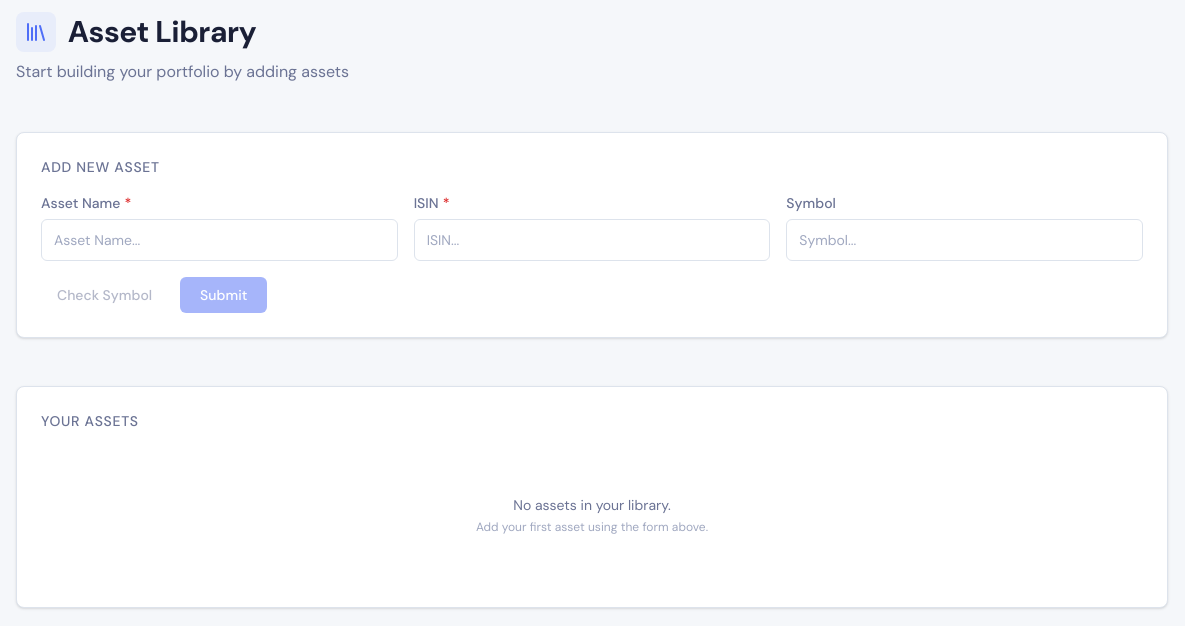
Test: Assets tab › adds an asset with a symbol that appears in the table
The width and height of the screenshot is (1185, 626).
Type "Apple" into the field labelled "Asset Name*".
click(219, 240); type("Apple")  # box [41,219,398,261]
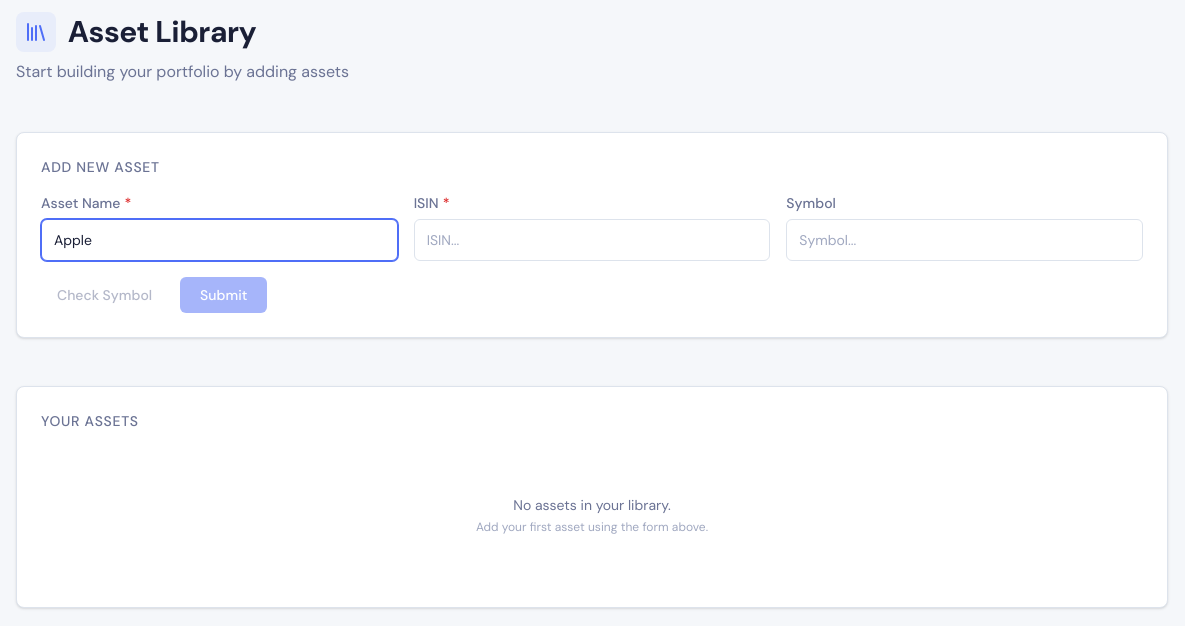
Type "US0378331005" into the field labelled "ISIN*".
click(592, 240); type("US0378331005")  # box [414,219,770,261]
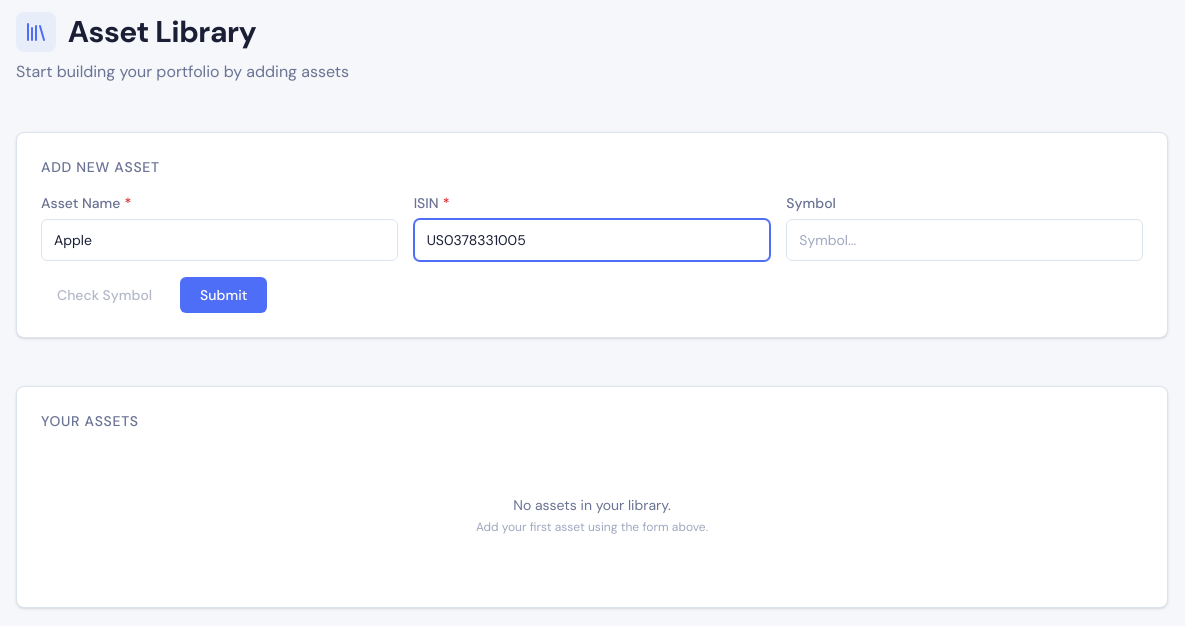
Type "AAPL" into the field labelled "Symbol".
click(965, 240); type("AAPL")  # box [786,219,1143,261]
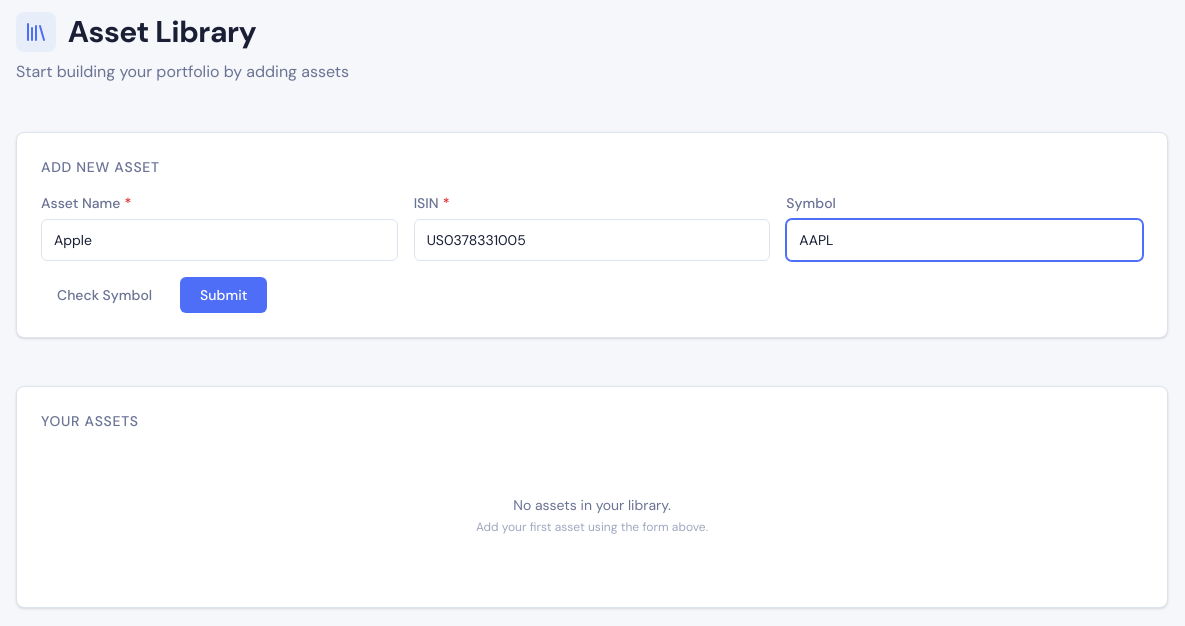
Click the button "Submit".
click(224, 295)  # box [180,277,267,313]
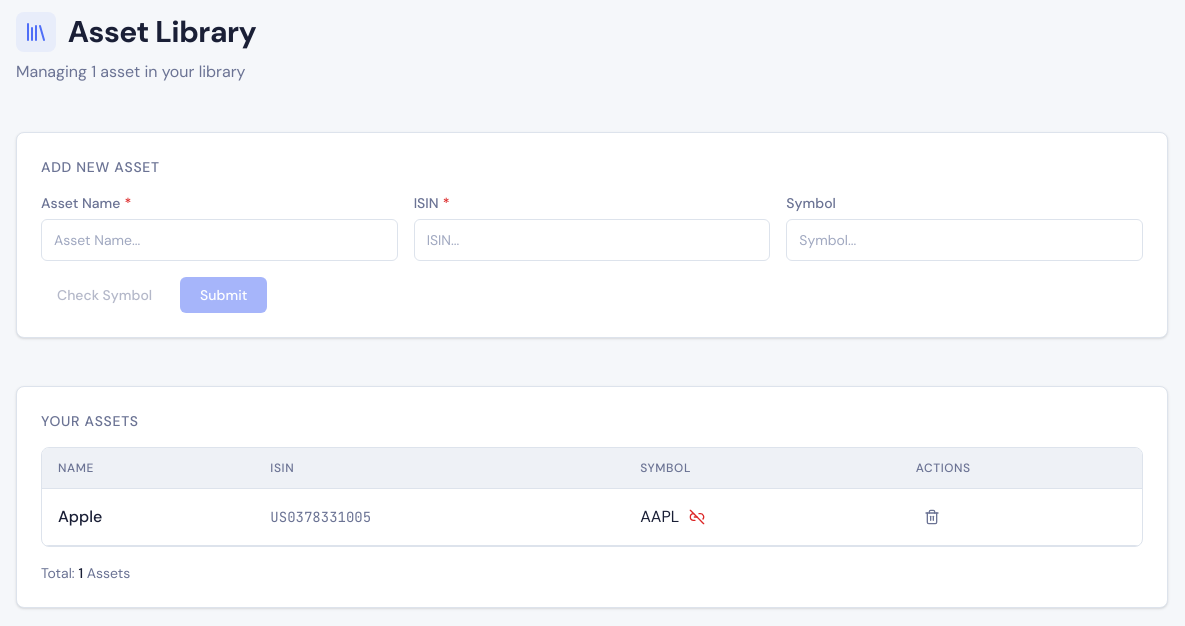
Check: the cell "Apple" is shown, box [42,488,254,546]
Check: the cell "AAPL" is shown, box [624,488,900,546]
